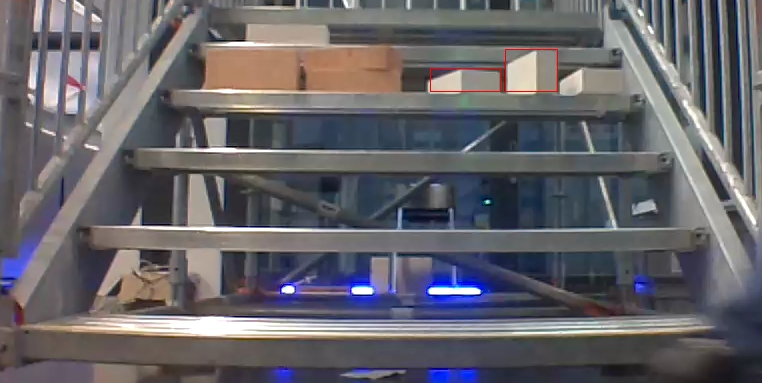brick: (206, 48, 299, 91), (306, 44, 402, 71), (504, 52, 559, 94), (303, 72, 403, 92), (427, 69, 505, 92), (559, 69, 626, 95), (246, 23, 332, 43)
edge: (13, 325, 744, 365), (129, 145, 674, 176), (79, 226, 707, 250), (193, 39, 624, 64), (163, 94, 641, 109), (207, 10, 600, 25)
steps: (18, 7, 762, 370)
